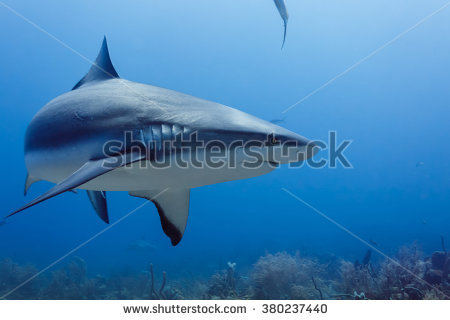Carcharhinus_amblyrhynchos: (9, 33, 330, 249)
